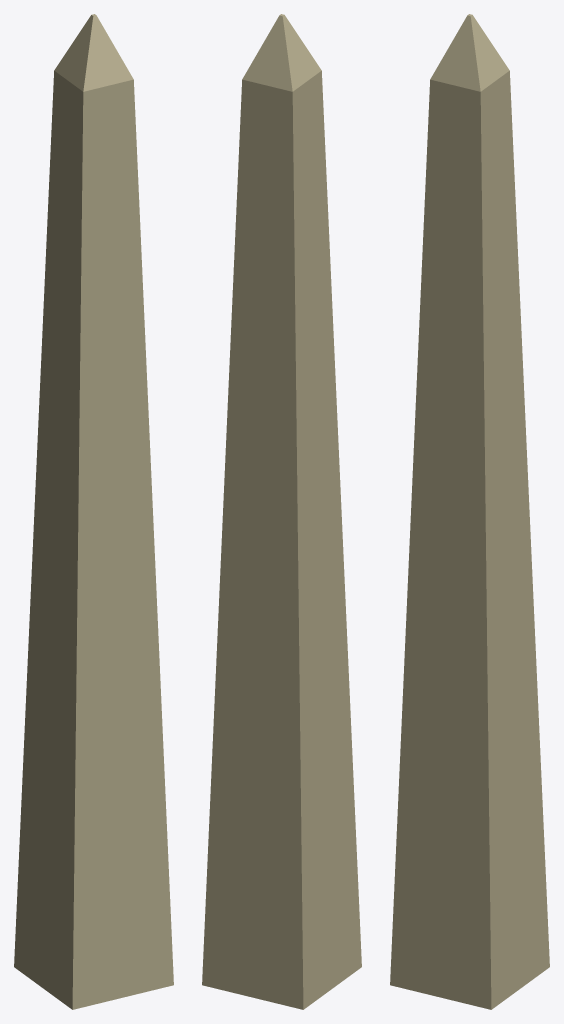
File: W3WYM_Washington_Monument.gltf
3 views of the same model, side by side, from view 1: azimuth 30°, elevation 25°; view 2: azimuth 150°, elevation 25°; view 3: azimuth 330°, elevation 25° (orthographic).
Visible parts, largest first — view 1: Cube; view 2: Cube; view 3: Cube.
Boxes of the visible parts, <box> form: Cube: <box>14,14,173,1009</box>; Cube: <box>202,14,361,1009</box>; Cube: <box>390,14,549,1009</box>.
Size of the model in its own units: 37.43 by 339 by 37.43.
